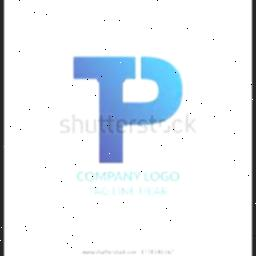p: (69, 50, 185, 166)
